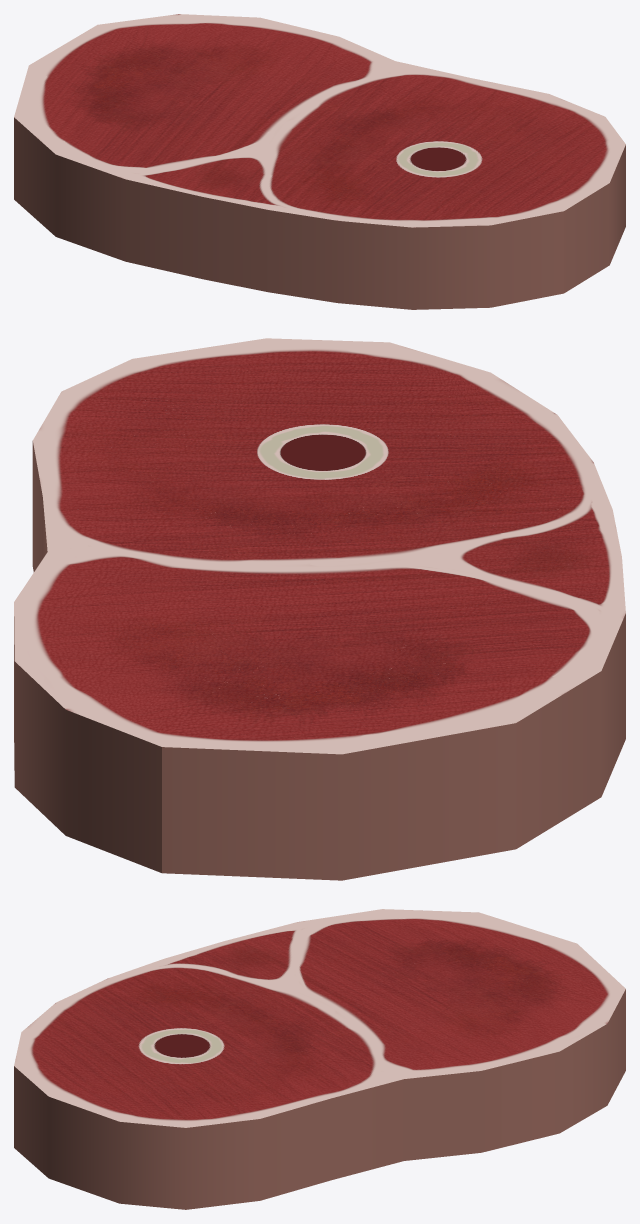
File: meat-patty.glb
The picture shows the model from 3 angles, top to bottom: view 1: azimuth 30°, elevation 25°; view 2: azimuth 150°, elevation 25°; view 3: azimuth 270°, elevation 25°; orthographic projection. The views are drawn at different scales.
Visible parts, largest first — view 1: steak_low; view 2: steak_low; view 3: steak_low.
Part boxes in pixels (left/top/right/bottom): steak_low: left=14, top=14, right=625, bottom=309; steak_low: left=14, top=338, right=625, bottom=880; steak_low: left=14, top=909, right=625, bottom=1209.
Size of the model in its own units: 1.04 by 0.1806 by 1.22.
Materials: 2 (2 with a texture image).
